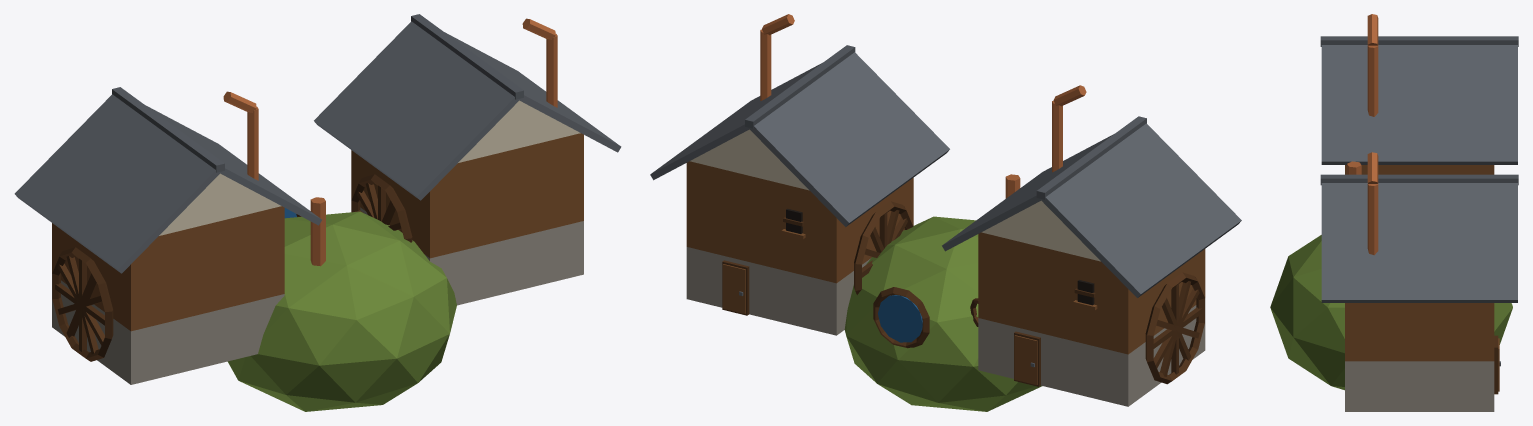
Rendered from gnome_row.glb.
3 views of the same model, side by side, from view 1: azimuth 30°, elevation 25°; view 2: azimuth 150°, elevation 25°; view 3: azimuth 270°, elevation 25° (orthographic). The views are drawn at different scales.
Visible parts, largest first — view 1: gnome_row; view 2: gnome_row; view 3: gnome_row.
Part boxes in pixels (x1,y1,x2,y2): gnome_row: [14, 14, 621, 411]; gnome_row: [650, 14, 1241, 411]; gnome_row: [1270, 14, 1518, 411].
Bounding box in the file's own units: 3.83 × 2.49 × 1.73.
